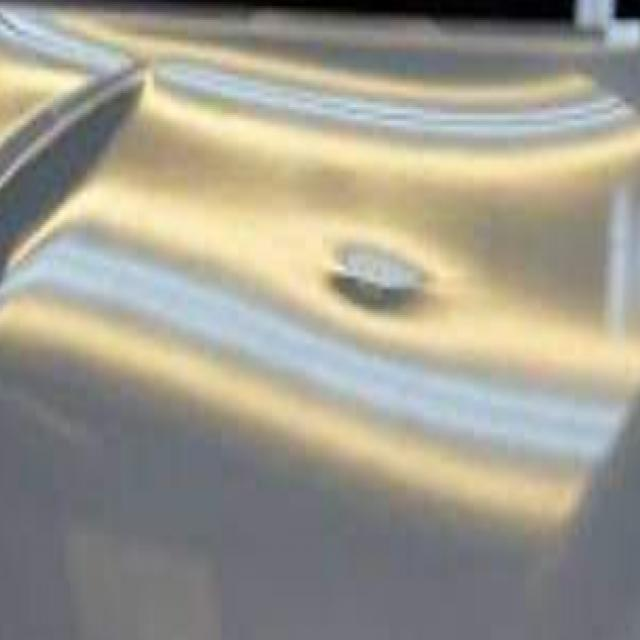dents: (327, 225, 452, 346)
